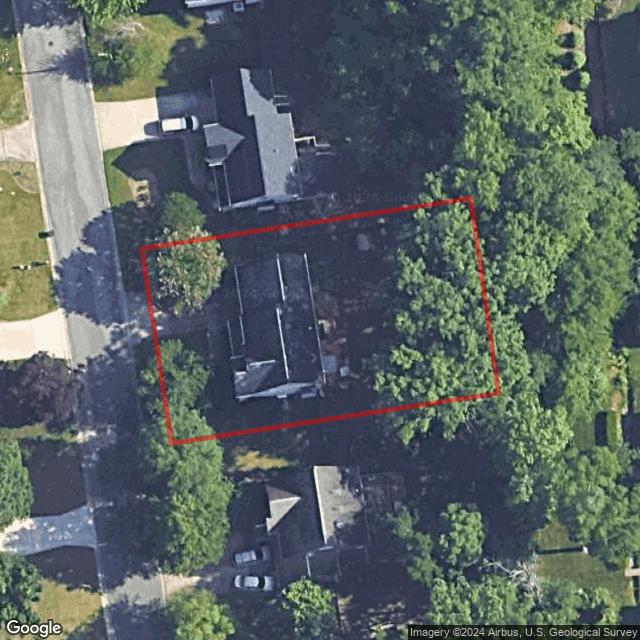Driveway: (149, 280, 240, 336)
Extra-Driveway: (125, 291, 155, 347)
Extra-Lawn: (133, 338, 172, 446), (118, 249, 148, 292)
House: (226, 252, 326, 400)
Lawn: (143, 198, 498, 442)
Other: (316, 318, 362, 380)
Sidewalk: (206, 325, 246, 374)
